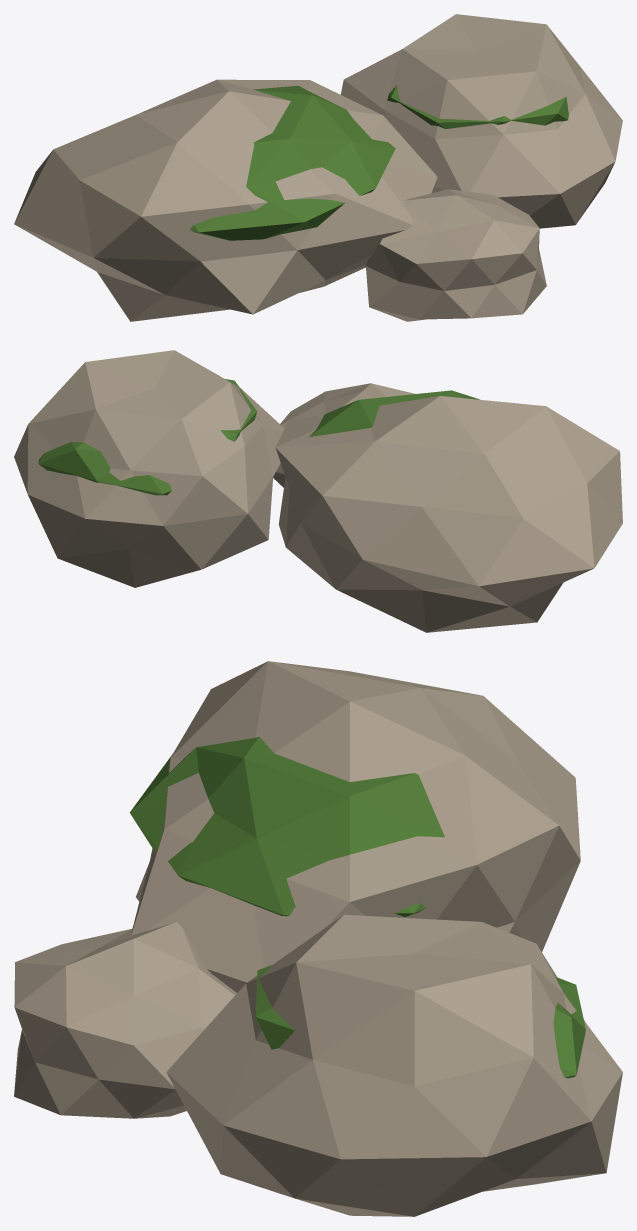
File: rock_c.glb
3 renders of one model, top to bottom at view 1: azimuth 30°, elevation 25°; view 2: azimuth 150°, elevation 25°; view 3: azimuth 270°, elevation 25°, orthographic. The views are drawn at different scales.
Parts seen in each view (by area): view 1: rock_c; view 2: rock_c; view 3: rock_c.
Part boxes in pixels (x1,y1,x2,y2): rock_c: [14, 14, 622, 321]; rock_c: [14, 350, 622, 632]; rock_c: [14, 661, 622, 1216].
Bounding box in the file's own units: 2.26 × 0.7888 × 1.41.
